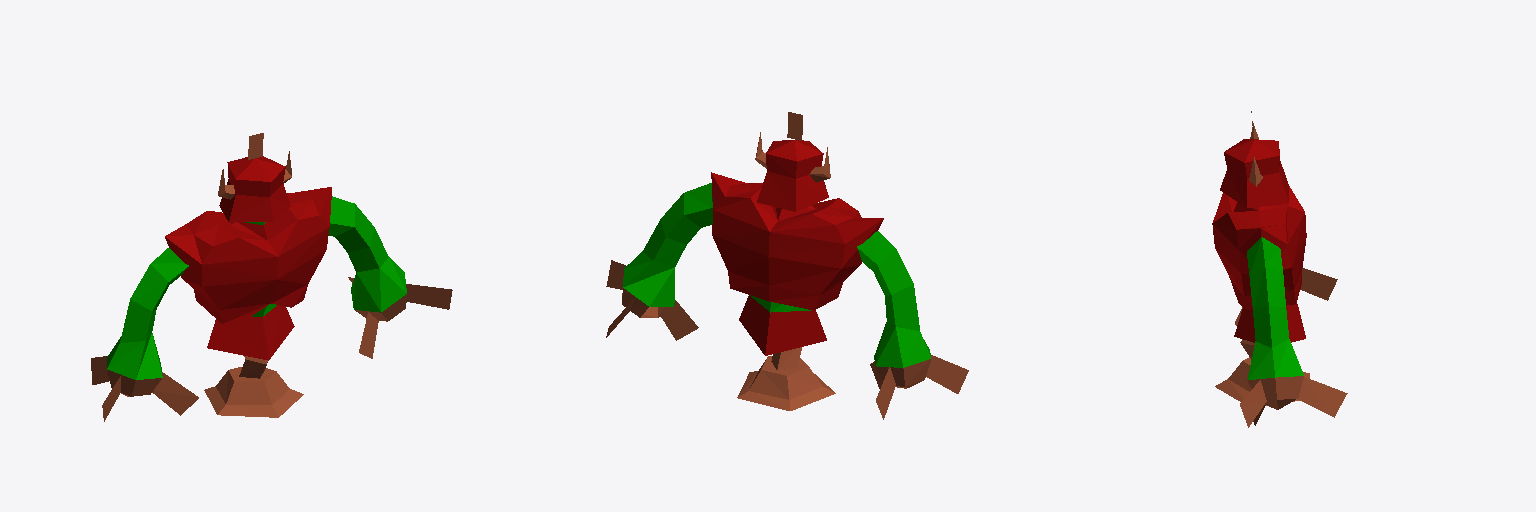
File: Bouncing_Zurg.obj
3 renders of one model, left to right at view 1: azimuth 30°, elevation 25°; view 2: azimuth 150°, elevation 25°; view 3: azimuth 270°, elevation 25°, orthographic.
Parts seen in each view (by area): view 1: Bouncing_Zurg; view 2: Bouncing_Zurg; view 3: Bouncing_Zurg.
Part boxes in pixels (x1,y1,x2,y2): Bouncing_Zurg: (91, 133, 452, 421); Bouncing_Zurg: (606, 112, 968, 419); Bouncing_Zurg: (1212, 111, 1347, 427).
Bounding box in the file's own units: 6.6 × 4.81 × 2.18.